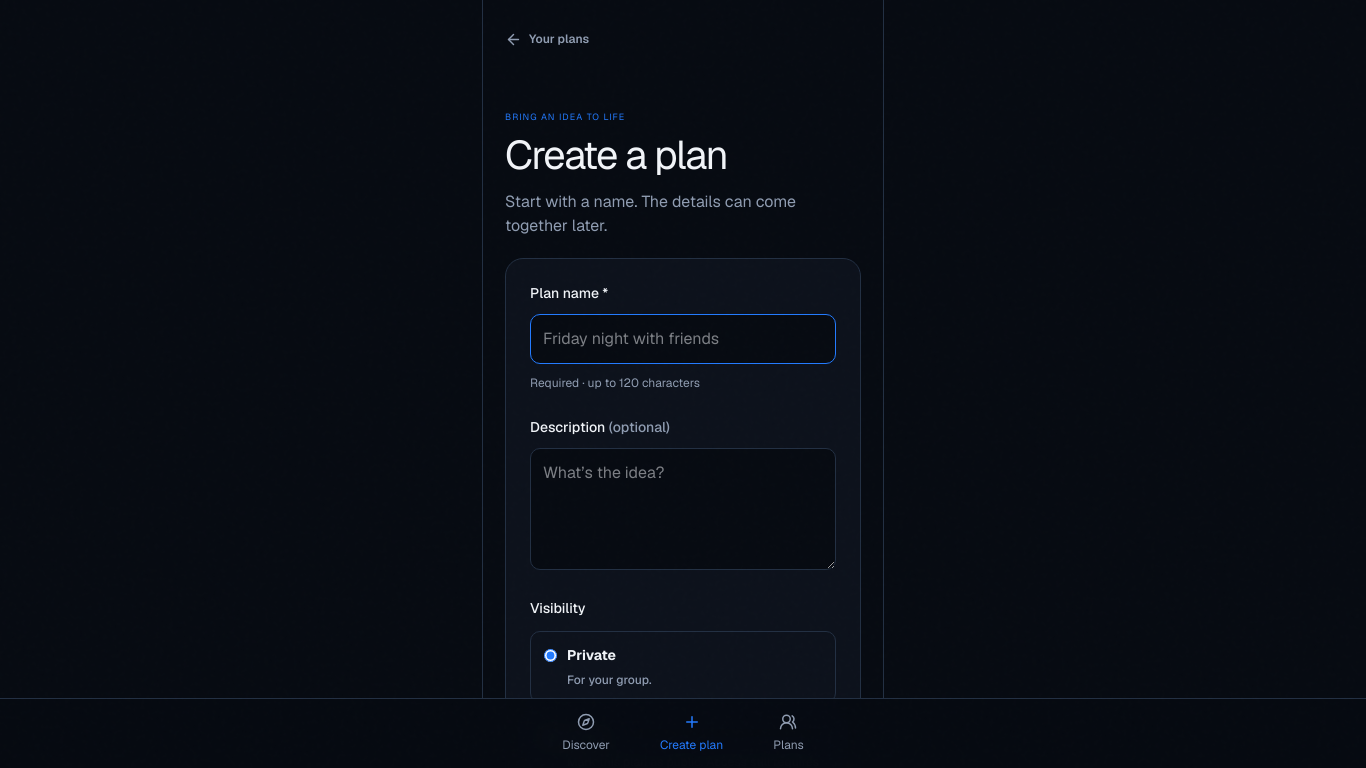
Test case: failed creation preserves the draft and can be retried with private default
Type "Friday night" into the field labelled "Plan name *" at point(683, 338), box x1=530 y1=314 x2=836 y2=364
(page scrolled)
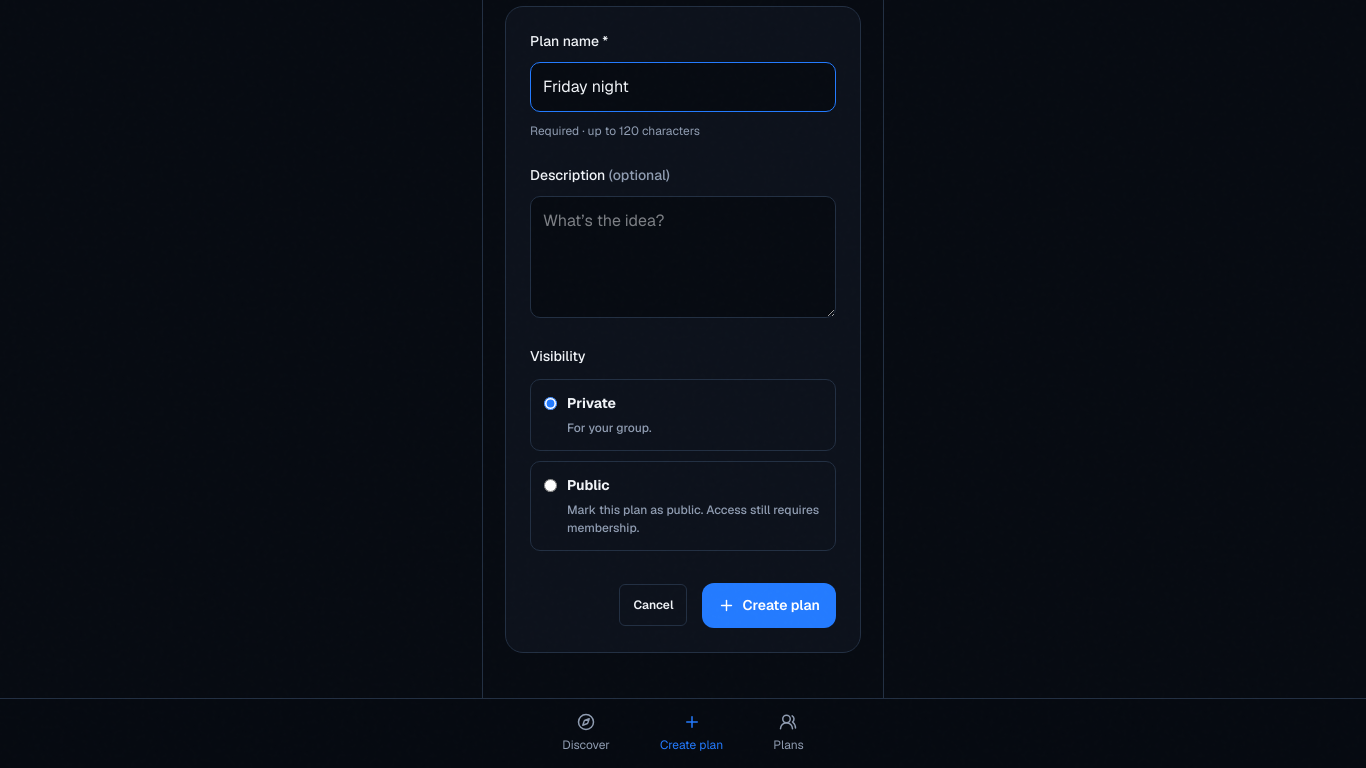
Click the button "Create plan" at point(769, 605), box x1=702 y1=582 x2=836 y2=628
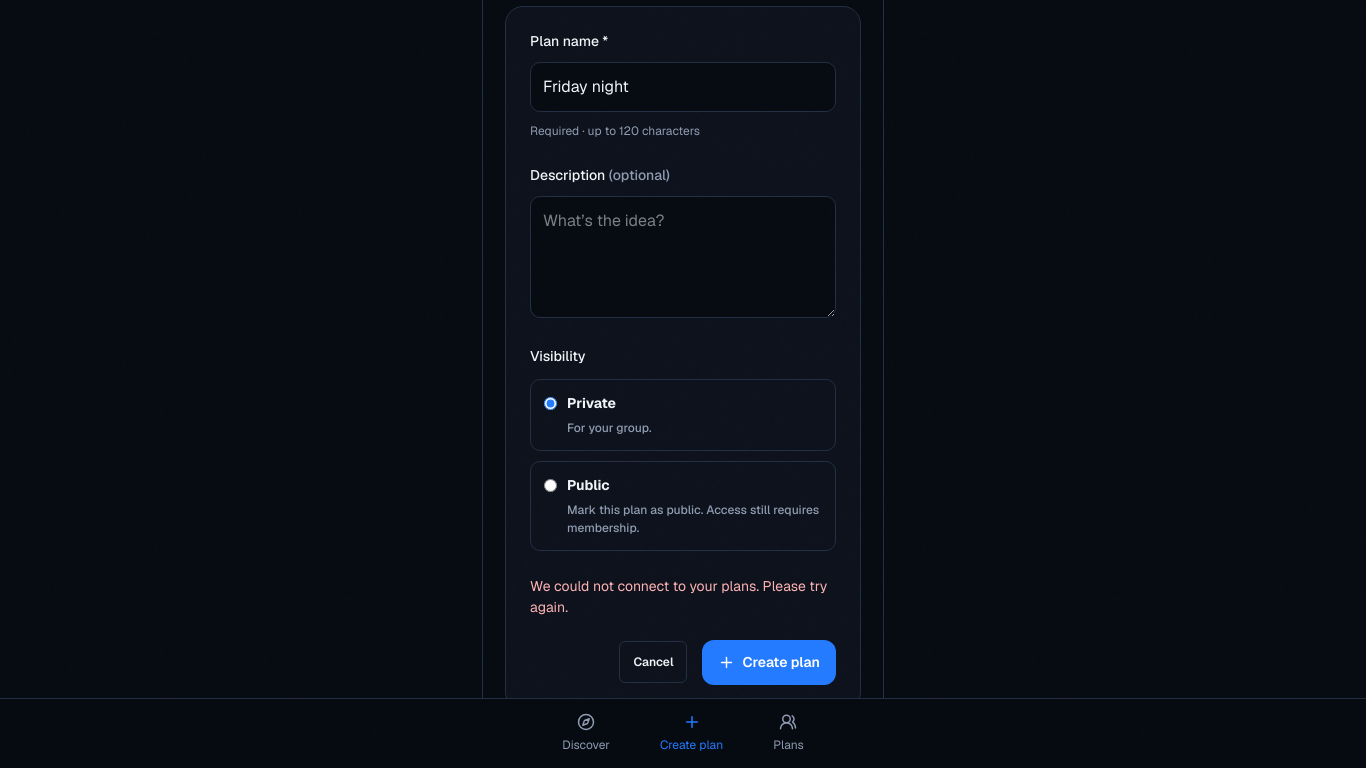
Expected: the message "We could not connect to your plans. Please try again." is shown, x1=530 y1=576 x2=836 y2=618
Click the button "Create plan" at point(769, 662), box x1=702 y1=640 x2=836 y2=684
(page scrolled)
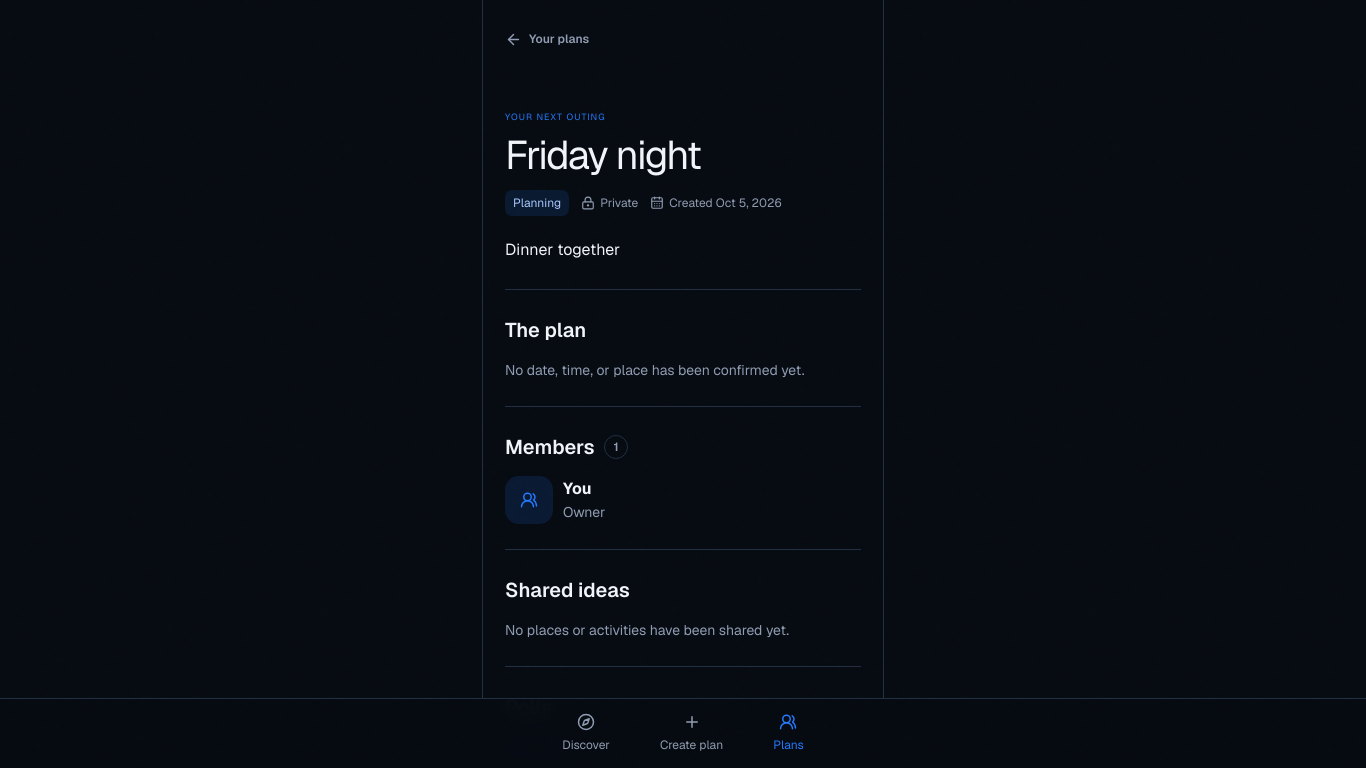
Expected: the heading "Friday night" is shown, x1=505 y1=128 x2=700 y2=180
